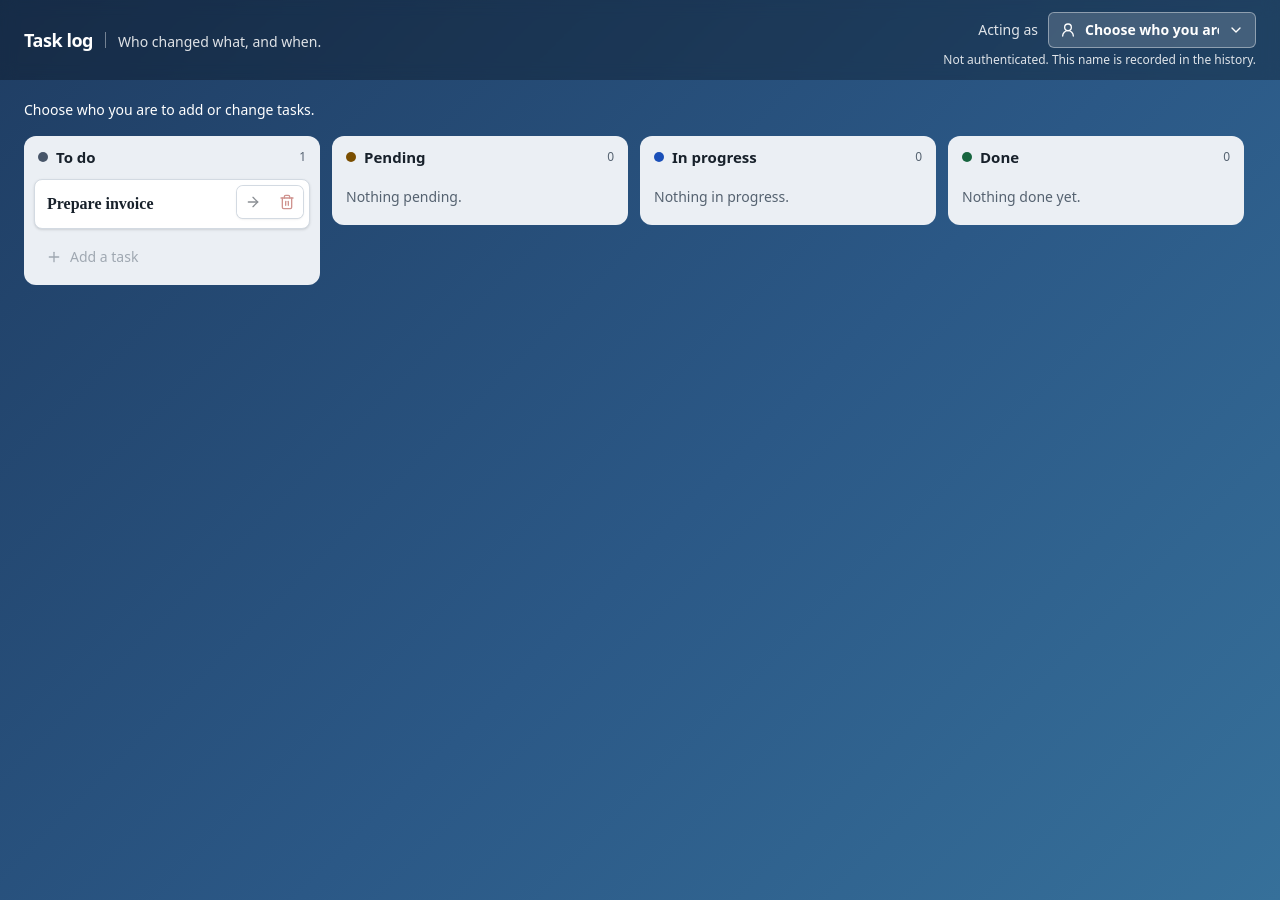
Test case: card popup › should disable the Status dropdown until an actor is chosen
The image size is (1280, 900).
Click the button "Prepare invoice". click: (172, 204)
box: x1=47 y1=192 x2=297 y2=216
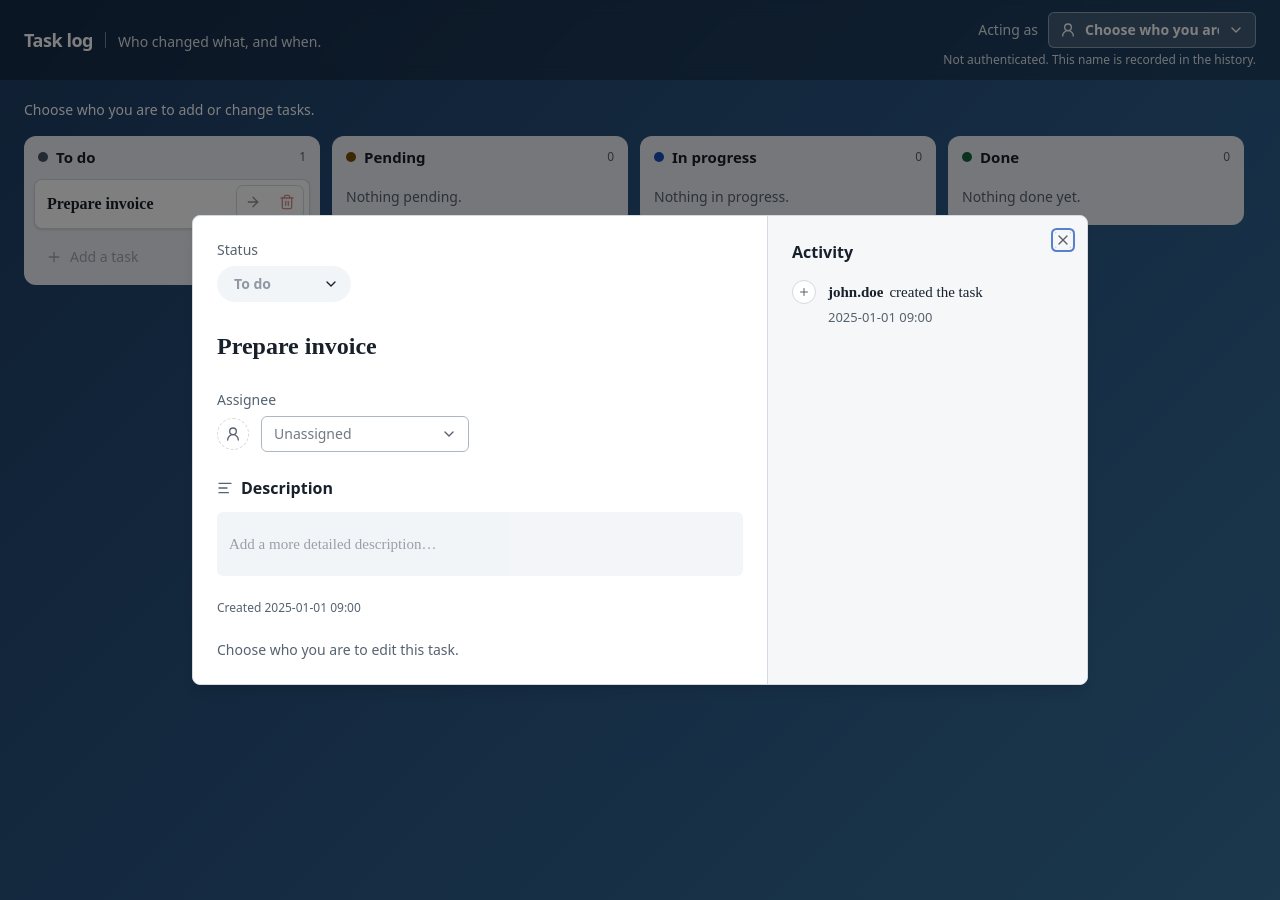
Expected: the dropdown labelled "Status" is disabled, x1=217 y1=266 x2=351 y2=302
